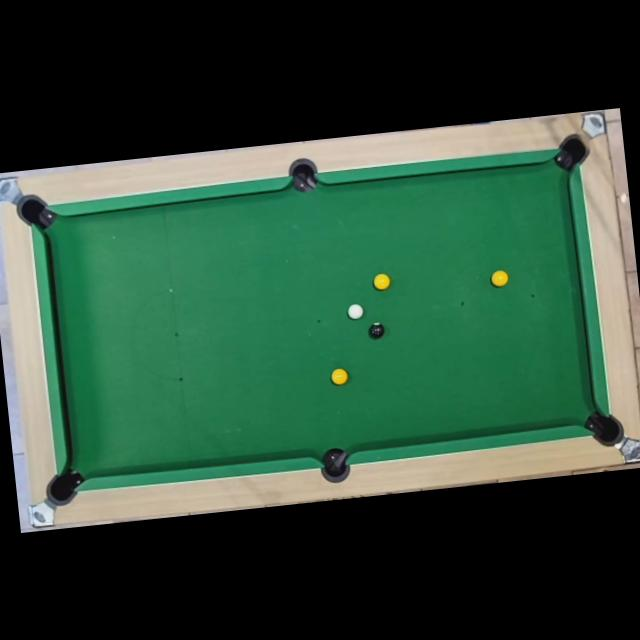Ball: (372, 272, 392, 290), (490, 269, 509, 287), (330, 368, 348, 386), (347, 303, 364, 320), (368, 321, 384, 337)
